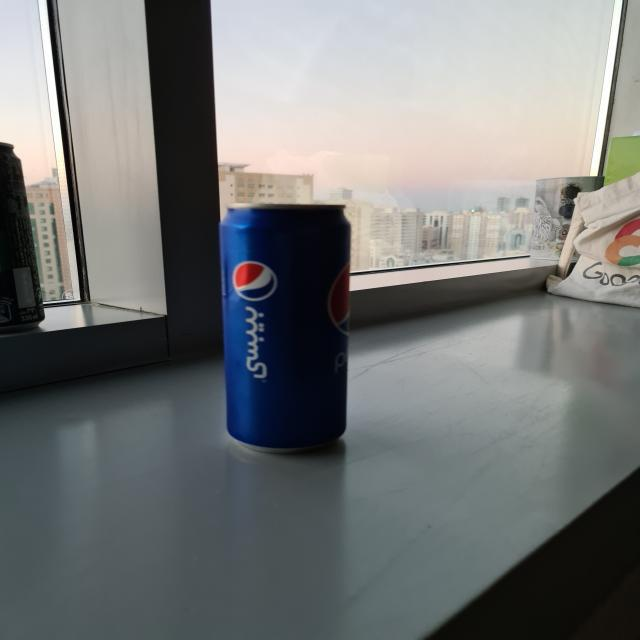can: (218, 197, 354, 458)
